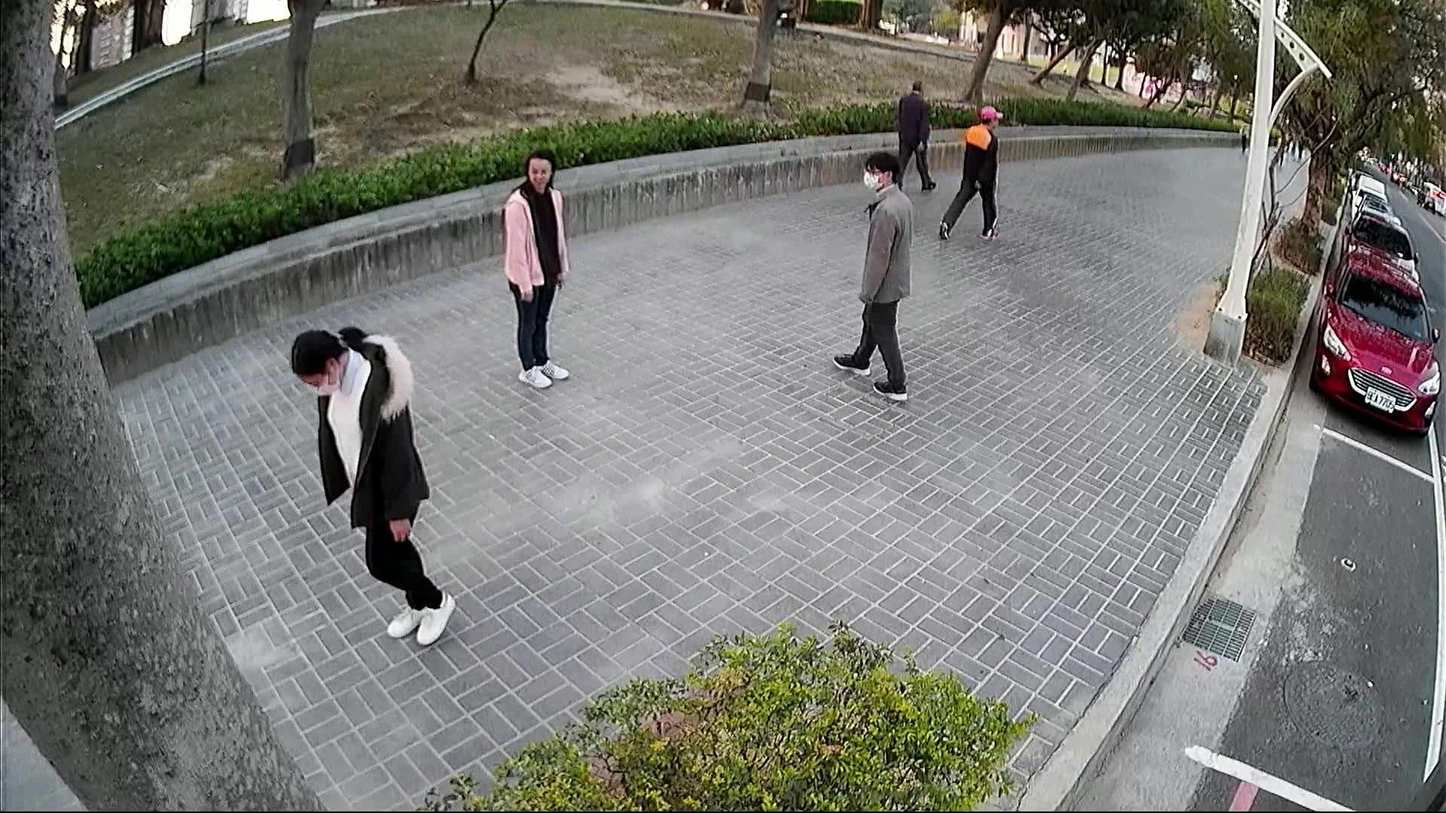person: (279, 318, 460, 650), (826, 142, 918, 405), (494, 141, 572, 394), (929, 96, 1005, 246), (887, 72, 938, 196)
